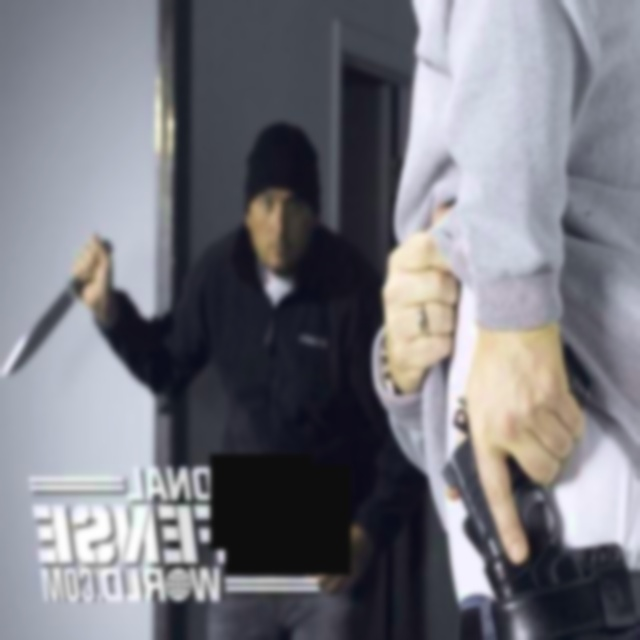gun: (439, 329, 599, 616), (2, 223, 117, 419)
